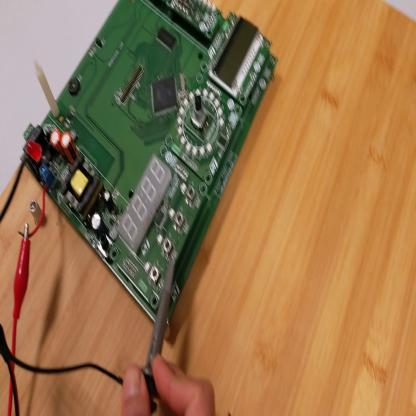hand: (120, 350, 217, 416)
low voltage board: (2, 2, 281, 330)
oscilloscope probe tip: (144, 260, 179, 405)
working area: (2, 2, 416, 414)
